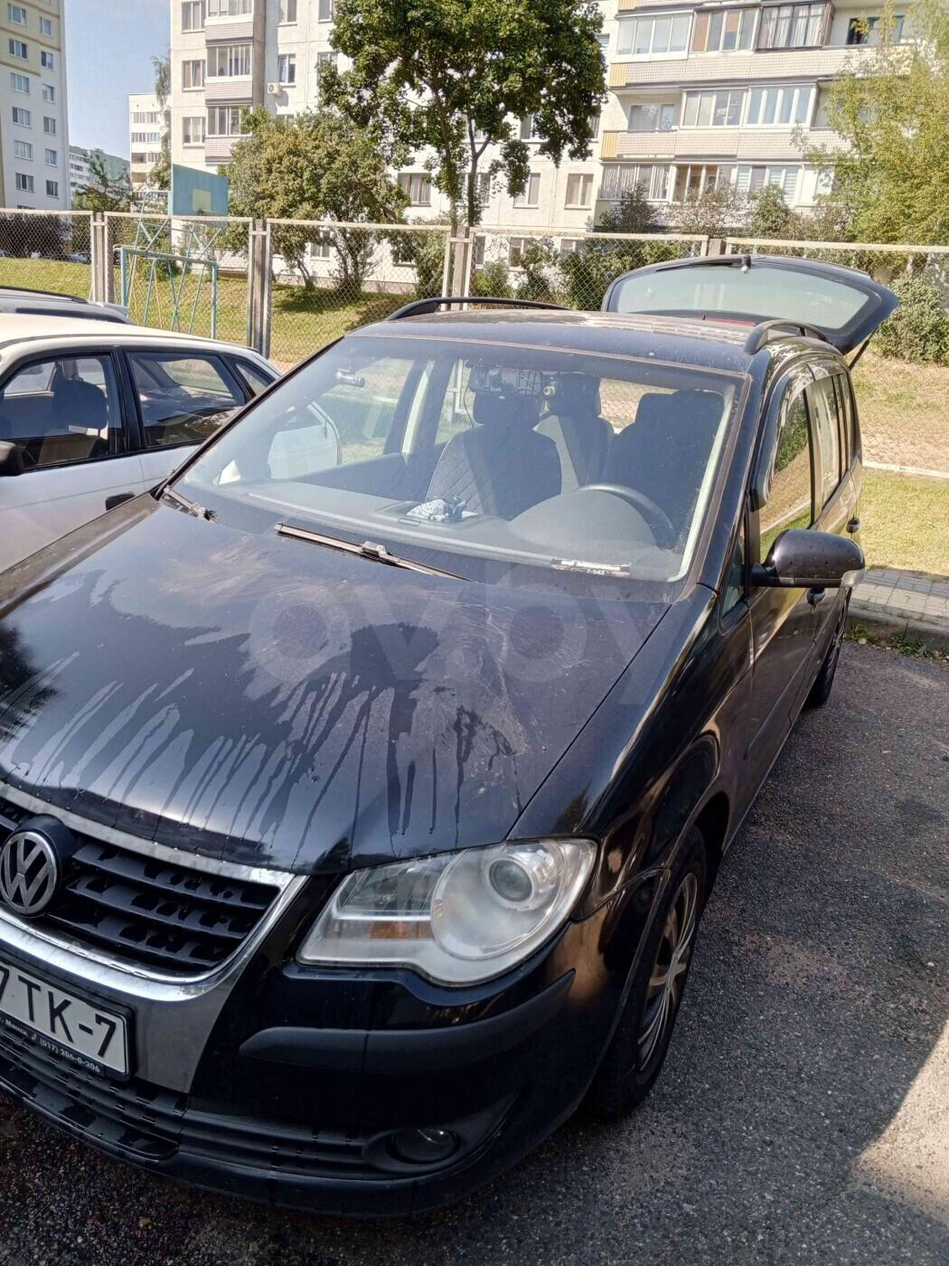Touran_2006-2010: (0, 304, 868, 1205)
